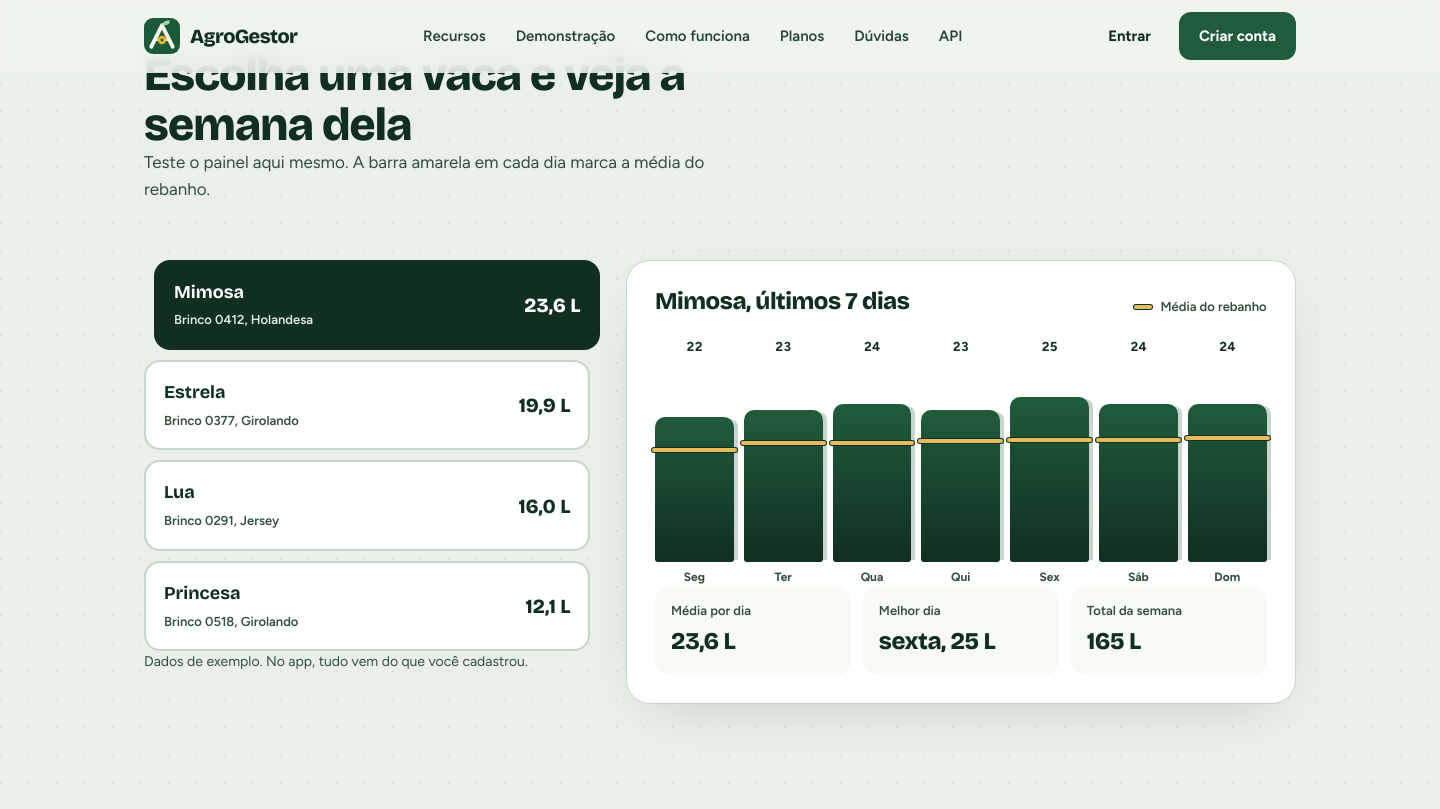
Test: telas e interações › apresenta a landing e permite mudar o animal da demonstração
(page scrolled)
Click the button "Estrela Brinco 0377, Girolando 19,9 L" at (195,392), box [144,360,590,450]
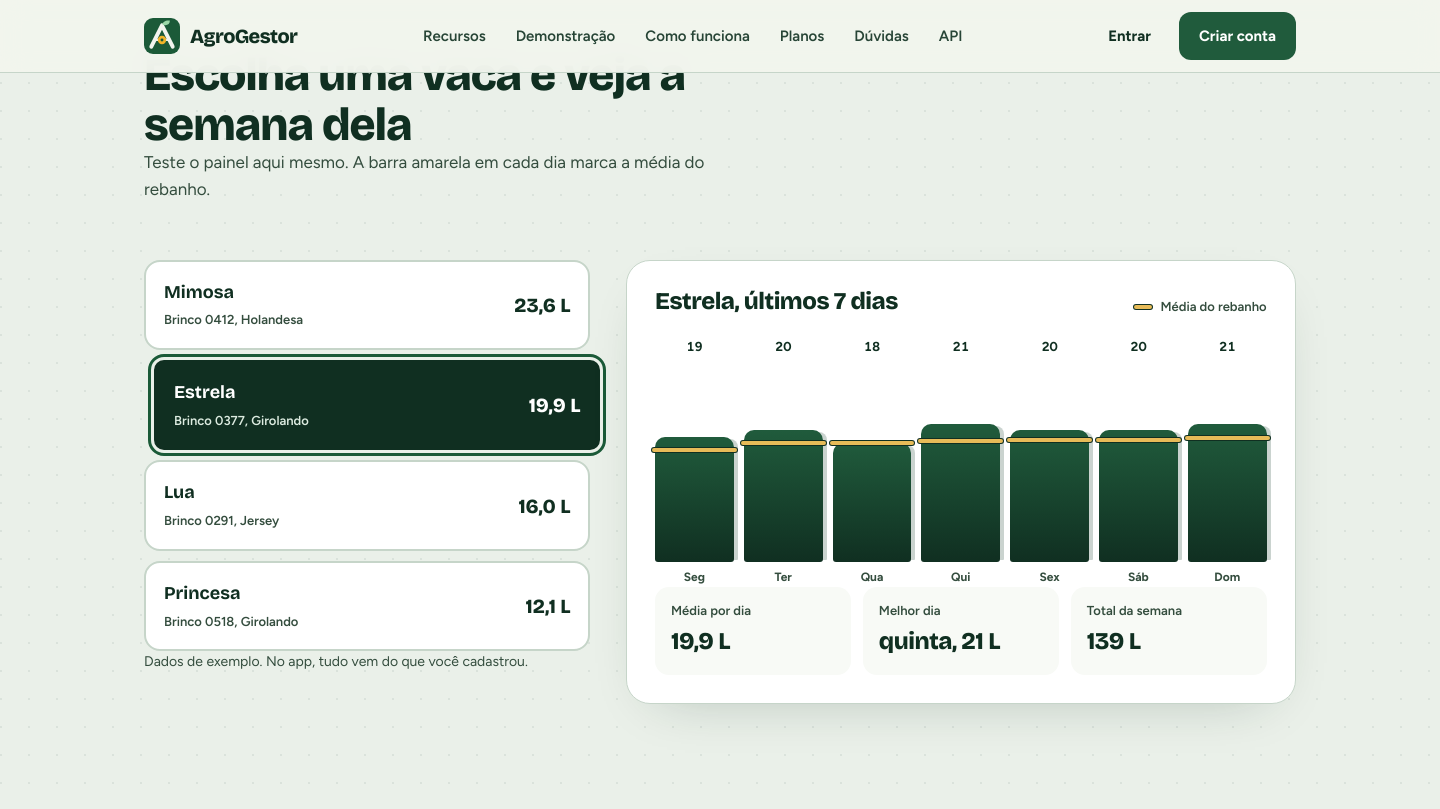
Expected: the heading "Estrela, últimos 7 dias" is shown, [655,289,898,315]
